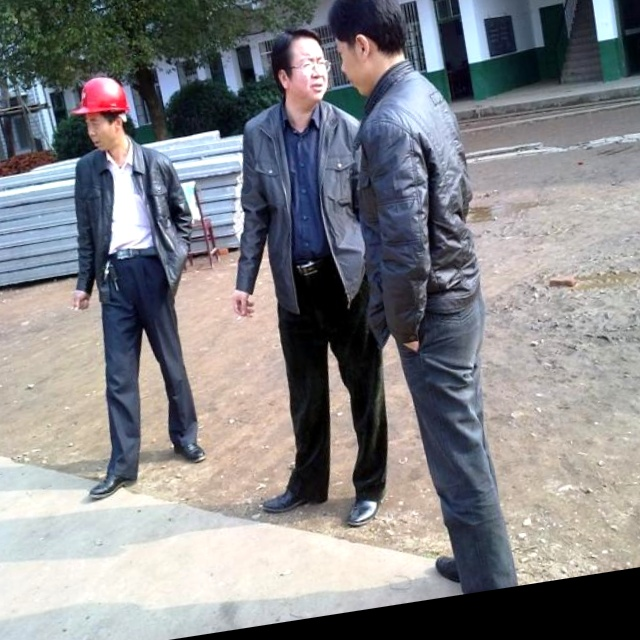Con_Casco: (68, 76, 134, 156)
Sin_Casco_Mascarrilla: (324, 0, 419, 100), (267, 21, 333, 106)
